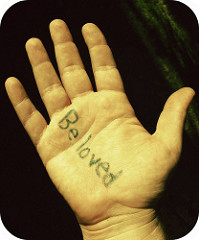palm: (53, 107, 149, 212)
